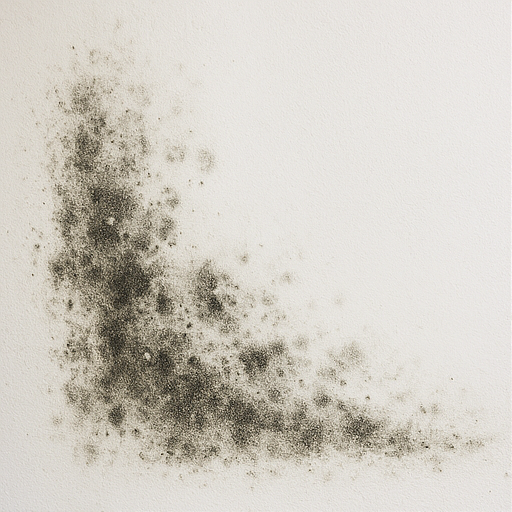schimmel: (78, 73, 164, 432), (235, 391, 400, 453), (168, 342, 214, 443), (191, 260, 234, 317), (235, 337, 307, 369)
